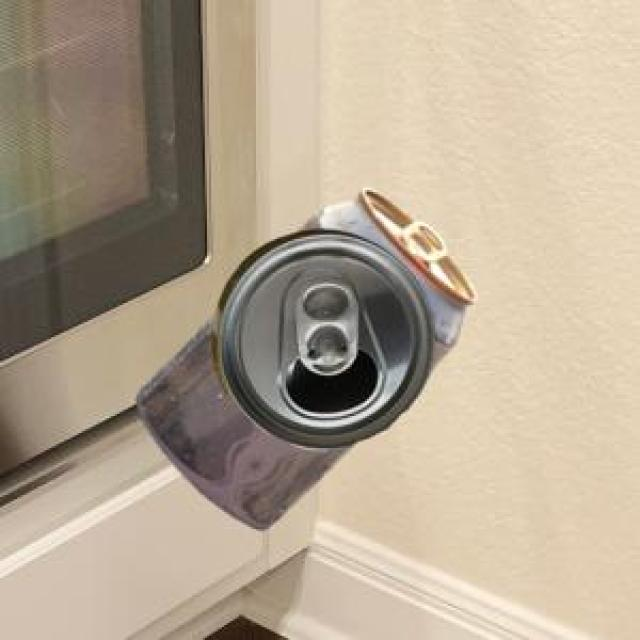logam: (133, 185, 473, 526), (210, 227, 432, 447)
